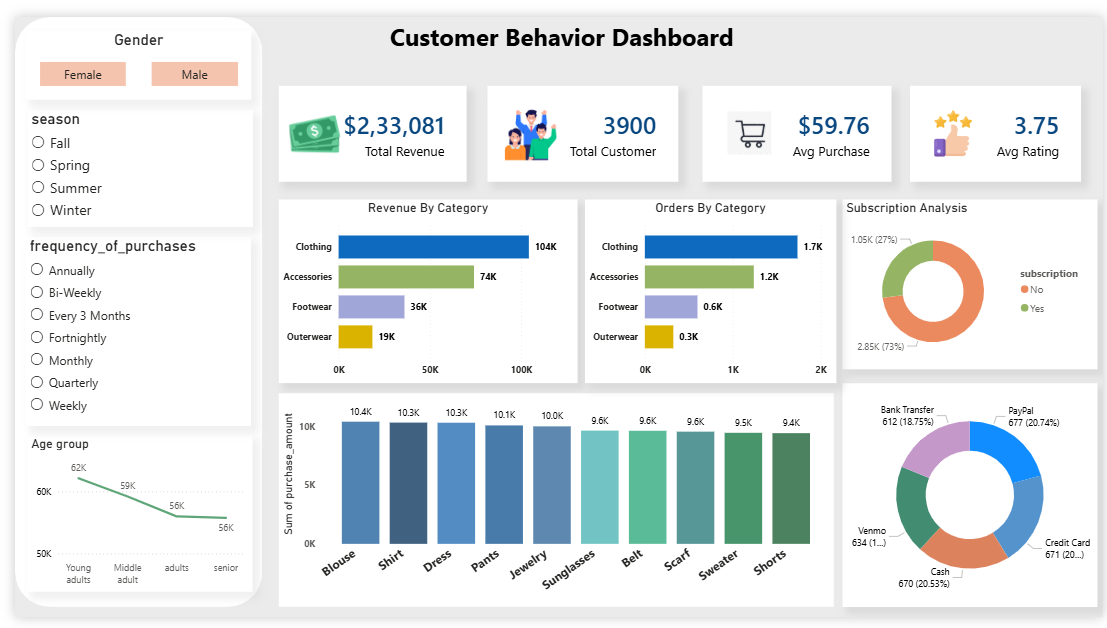

This screenshot's page, from the dashboard's own definition file:
{"tool":"powerbi","page":{"name":"Page 1","canvas":[1450,800],"ordinal":0},"visuals":[{"type":"shape","box":[0,0,330,786.7],"z":0},{"type":"textbox","box":[495,0,596.7,66.7],"z":1000},{"type":"cardVisual","fields":{"Data":["customer_behaviour customer_data.average purchase amount"]},"box":[916,92,252,128],"z":2000},{"type":"cardVisual","fields":{"Data":["customer_behaviour customer_data.average review rating"]},"box":[1194,92,228,128],"z":3000},{"type":"cardVisual","fields":{"Data":["customer_behaviour customer_data.Number of customers"]},"box":[630,92,254,128],"z":4000},{"type":"cardVisual","fields":{"Data":["Sum(customer_behaviour customer_data.purchase_amount)"]},"box":[352,92,250,128],"z":5000},{"type":"image","box":[950,124,58,62],"z":6000},{"type":"image","box":[1216,114,68,84],"z":7000},{"type":"image","box":[648,114,78,88],"z":8000},{"type":"image","box":[358,110,82,92],"z":9000},{"type":"clusteredBarChart","title":"Revenue By Category","fields":{"Category":["customer_behaviour customer_data.category"],"Y":["Sum(customer_behaviour customer_data.purchase_amount)"]},"box":[351.7,243.3,398.3,245],"z":10000},{"type":"donutChart","title":"Subscription Analysis","fields":{"Category":["customer_behaviour customer_data.subscription_status"],"Y":["CountNonNull(customer_behaviour customer_data.customer_id)"]},"box":[1104,244,340,226],"z":11000},{"type":"clusteredColumnChart","fields":{"Y":["Sum(customer_behaviour customer_data.purchase_amount)"],"Category":["customer_behaviour customer_data.item_purchased"]},"box":[351.7,501.7,740,285],"z":12000},{"type":"donutChart","title":"Subscription Analysis","fields":{"Y":["CountNonNull(customer_behaviour customer_data.customer_id)"],"Category":["customer_behaviour customer_data.payment_method"]},"box":[1103.3,488.3,340,298.3],"z":13000},{"type":"clusteredBarChart","title":"Orders By Category","fields":{"Category":["customer_behaviour customer_data.category"],"Y":["CountNonNull(customer_behaviour customer_data.customer_id)"]},"box":[760,243.3,335,245],"z":14000},{"type":"advancedSlicerVisual","title":"Gender","fields":{"Values":["customer_behaviour customer_data.gender"]},"box":[15,18.3,300,91.7],"z":15000},{"type":"listSlicer","fields":{"Values":["customer_behaviour customer_data.season"]},"box":[16.7,123.3,300,156.7],"z":16000},{"type":"lineChart","title":"Age group","fields":{"Category":["customer_behaviour customer_data.age_group"],"Y":["Sum(customer_behaviour customer_data.purchase_amount)"]},"box":[16.7,558.3,300,208.3],"z":17000},{"type":"listSlicer","fields":{"Values":["customer_behaviour customer_data.frequency_of_purchases"]},"box":[15,293.3,300,251.7],"z":18000}]}

Visuals, with their boxes in screenshot pixels (x1, y1, x2, y2), scaled from the page's 1450x800 canvas onto the 1107x628 screenshot:
shape: BBox(0, 0, 252, 618)
textbox: BBox(378, 0, 833, 52)
cardVisual - customer_behaviour customer_data.average purchase amount: BBox(699, 72, 892, 173)
cardVisual - customer_behaviour customer_data.average review rating: BBox(912, 72, 1086, 173)
cardVisual - customer_behaviour customer_data.Number of customers: BBox(481, 72, 675, 173)
cardVisual - Sum(customer_behaviour customer_data.purchase_amount): BBox(269, 72, 460, 173)
image: BBox(725, 97, 770, 146)
image: BBox(928, 89, 980, 155)
image: BBox(495, 89, 554, 159)
image: BBox(273, 86, 336, 159)
"Revenue By Category" clusteredBarChart: BBox(269, 191, 573, 383)
"Subscription Analysis" donutChart: BBox(843, 192, 1102, 369)
clusteredColumnChart - Sum(customer_behaviour customer_data.purchase_amount) x customer_behaviour customer_data.item_purchased: BBox(269, 394, 833, 618)
"Subscription Analysis" donutChart: BBox(842, 383, 1102, 617)
"Orders By Category" clusteredBarChart: BBox(580, 191, 836, 383)
"Gender" advancedSlicerVisual: BBox(11, 14, 240, 86)
listSlicer - customer_behaviour customer_data.season: BBox(13, 97, 242, 220)
"Age group" lineChart: BBox(13, 438, 242, 602)
listSlicer - customer_behaviour customer_data.frequency_of_purchases: BBox(11, 230, 240, 428)
